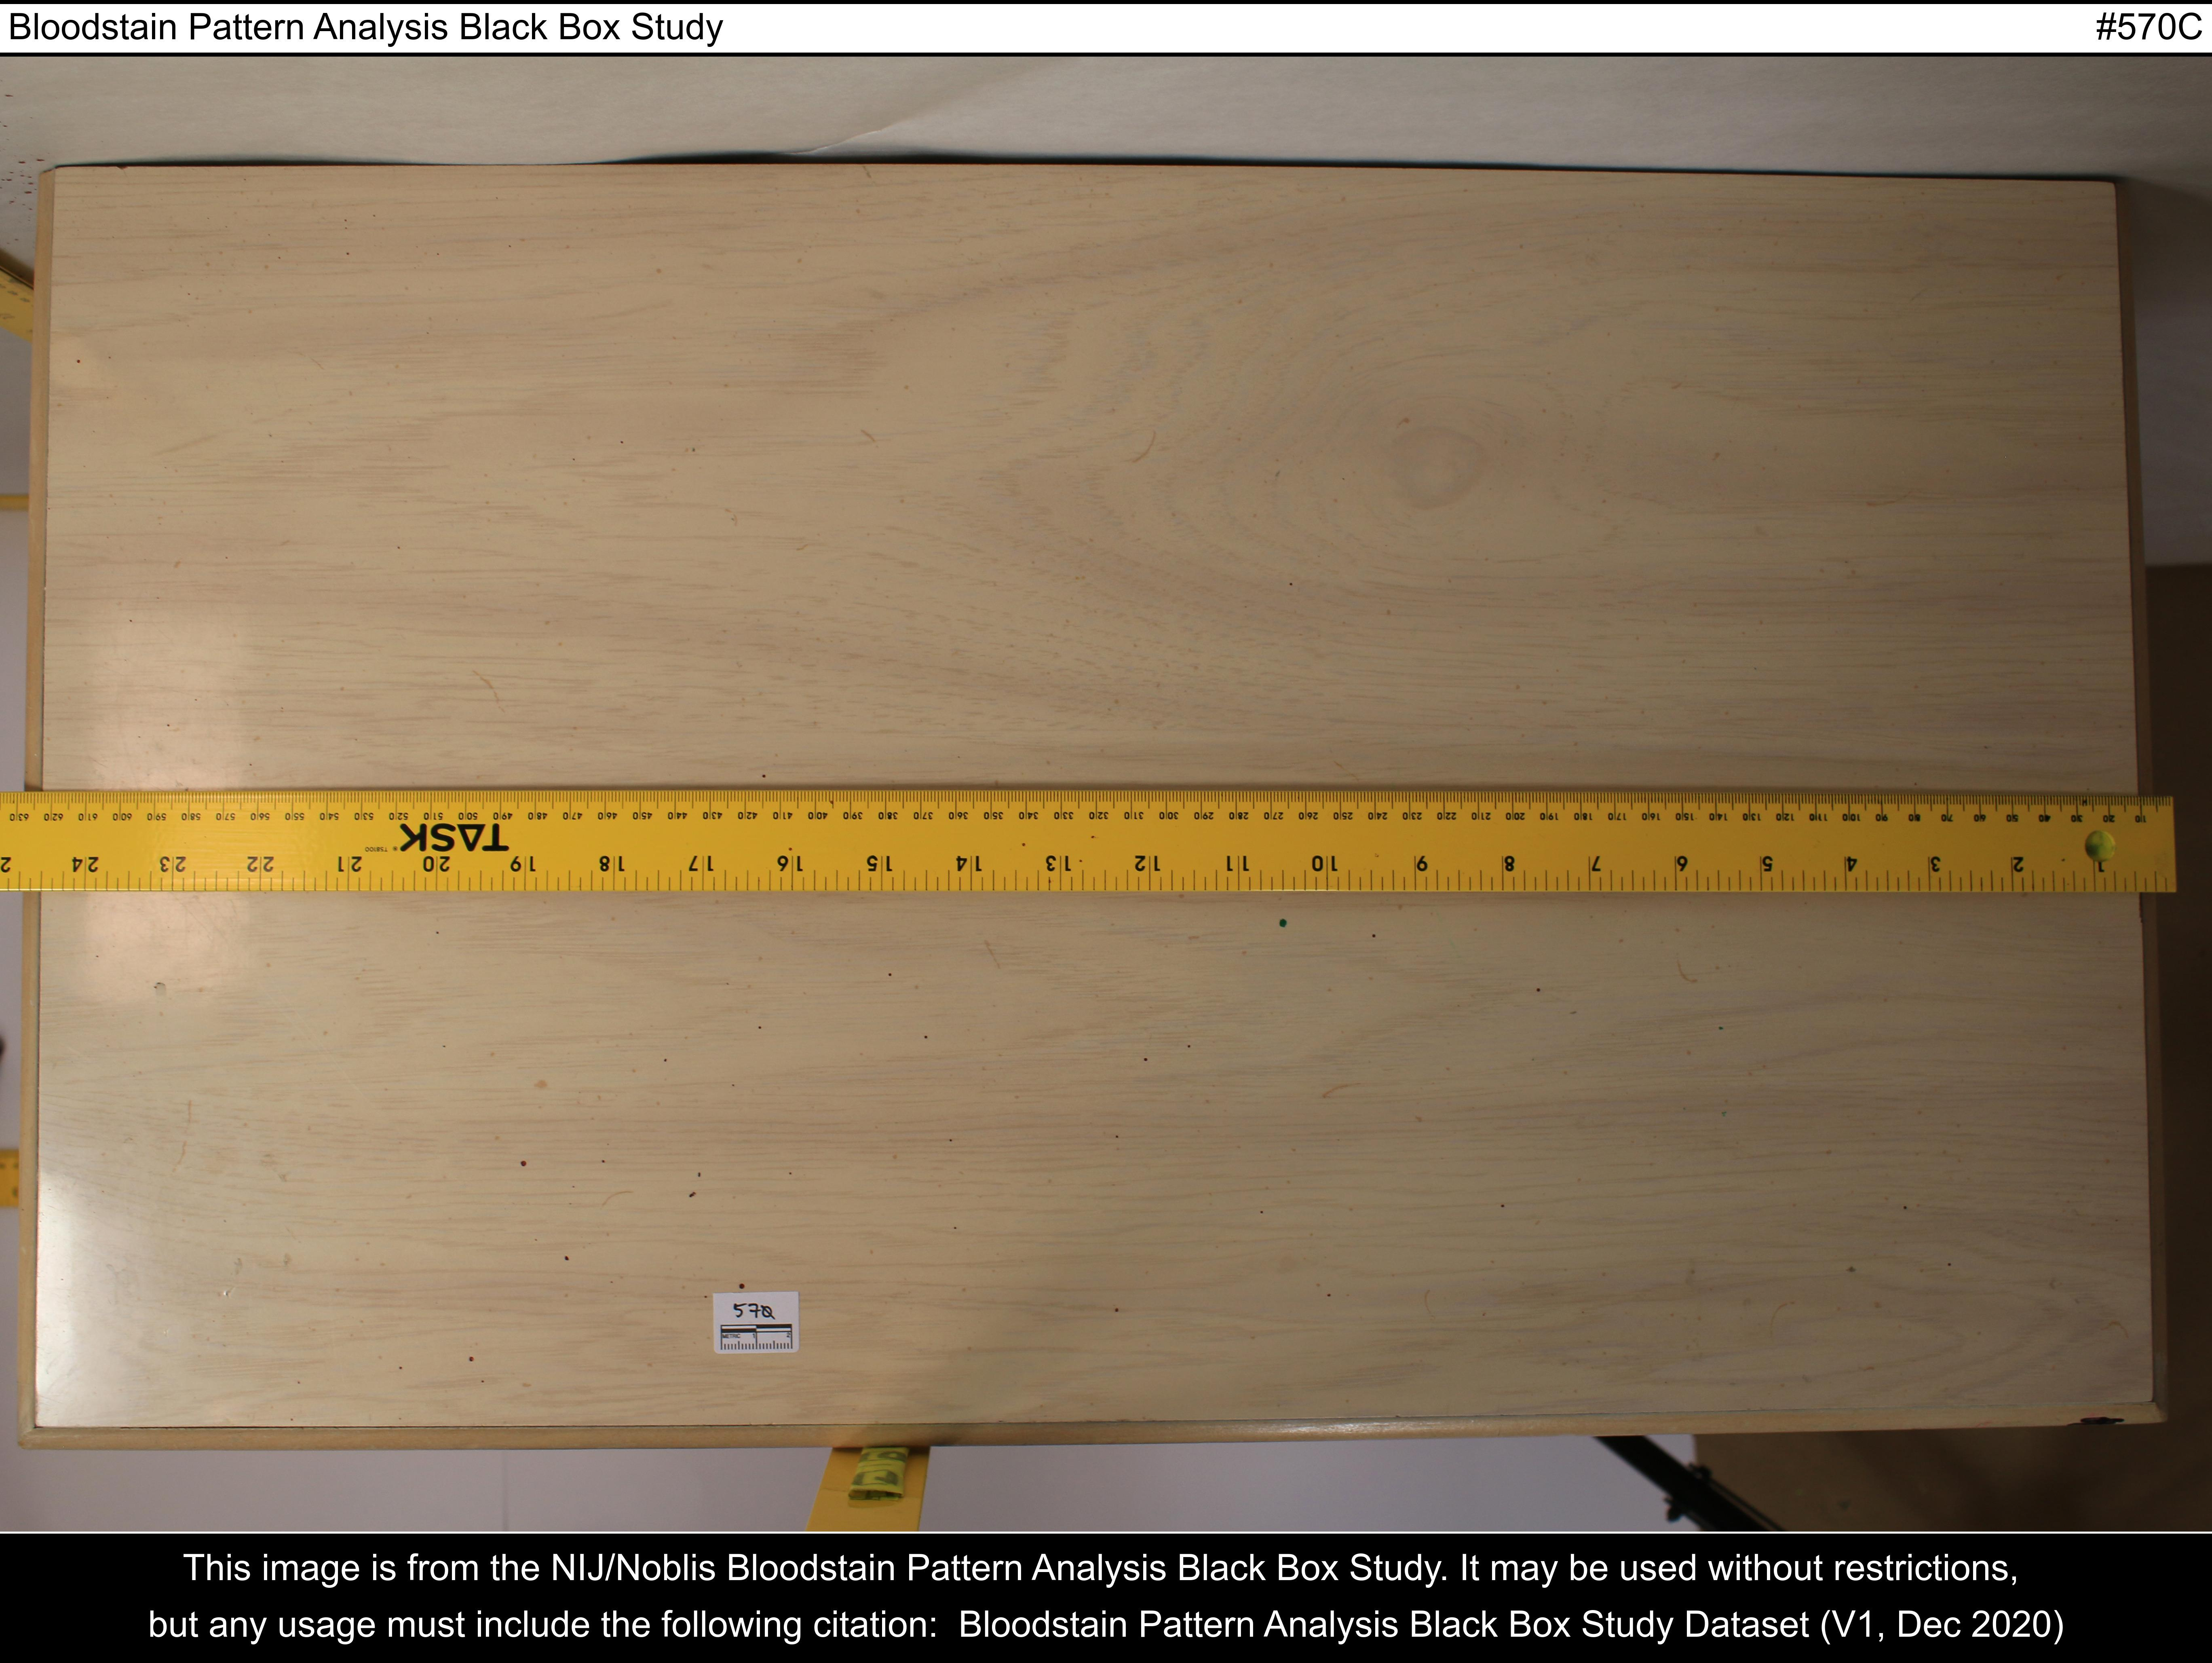Impact: (98, 912, 1365, 1370)
